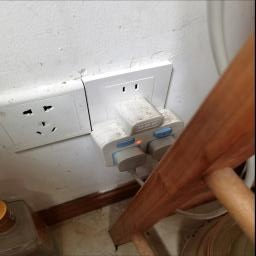outlet: (81, 68, 179, 132), (0, 88, 94, 145)
